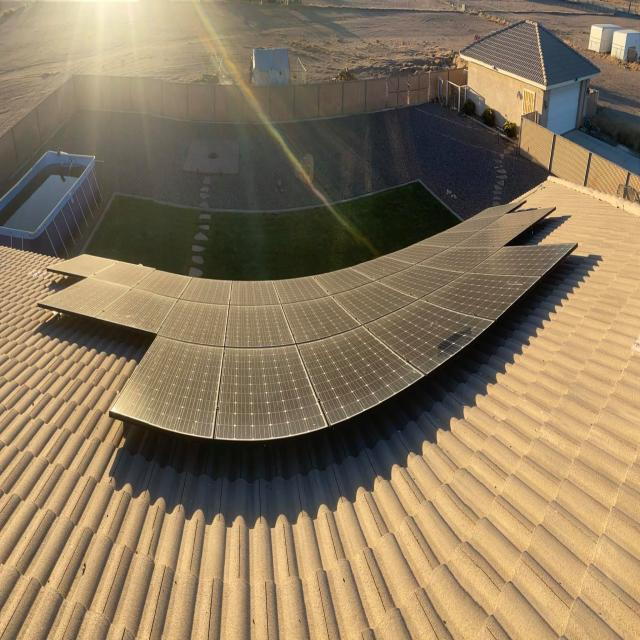dust-solar-panel: (41, 206, 576, 445)
